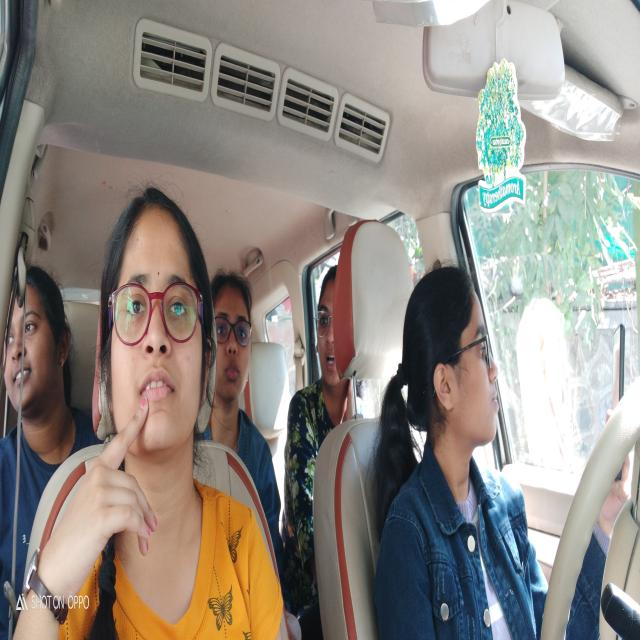LeftRight: (404, 272, 505, 458)
person: (100, 187, 212, 456), (2, 270, 76, 418), (208, 272, 255, 409), (314, 272, 342, 398)
